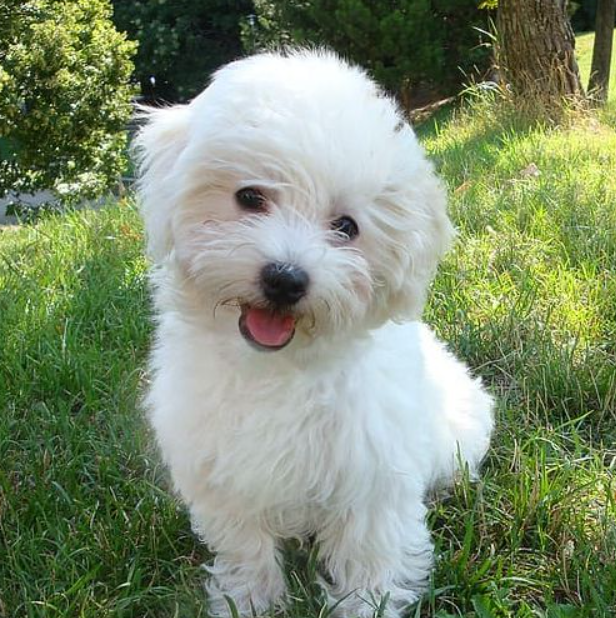perro: (96, 34, 507, 618)
